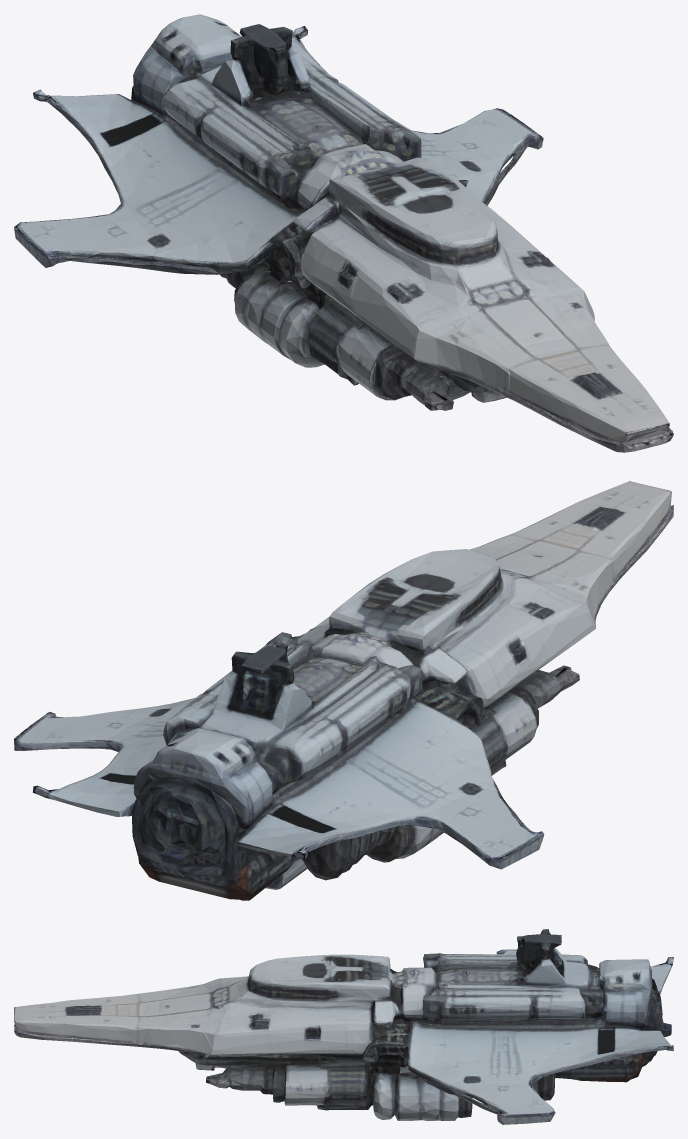
File: Audacious Patrol Ship.glb
3 renders of one model, top to bottom at view 1: azimuth 30°, elevation 25°; view 2: azimuth 150°, elevation 25°; view 3: azimuth 270°, elevation 25°, orthographic. The views are drawn at different scales.
Parts seen in each view (by area): view 1: world; view 2: world; view 3: world.
Part boxes in pixels (x1,y1,x2,y2): world: [14, 14, 673, 452]; world: [14, 481, 673, 900]; world: [14, 929, 673, 1124].
Size of the model in its own units: 0.5942 by 0.2677 by 0.9998.
Materials: 1 (1 with a texture image).
